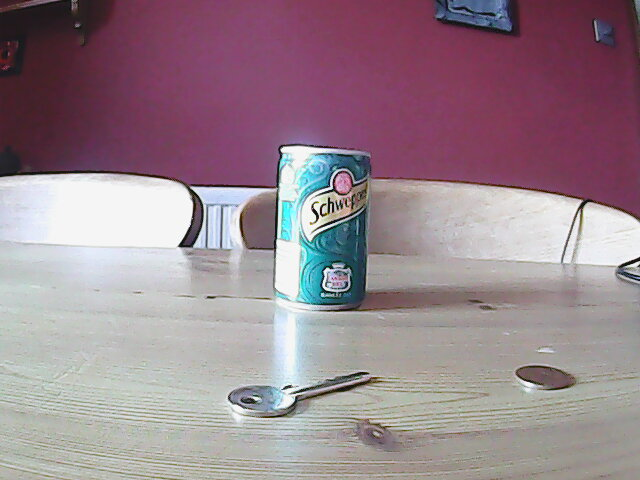Can: (270, 141, 373, 313)
Coin: (514, 362, 577, 393)
Key: (225, 368, 374, 421)
